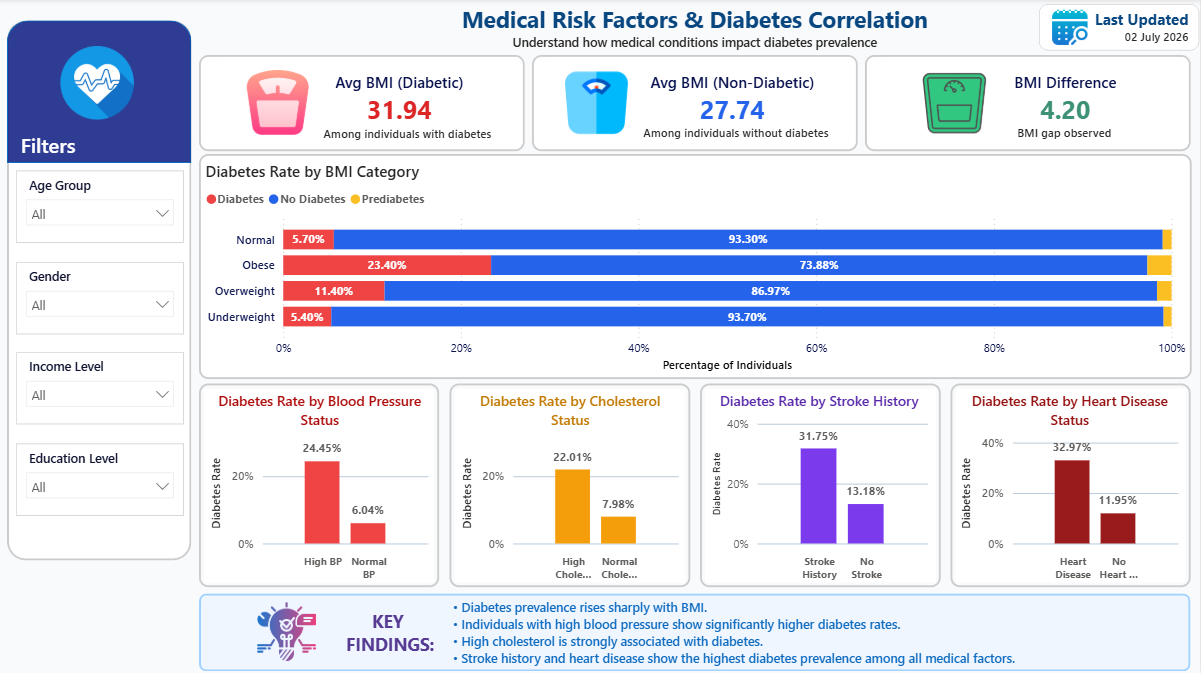

Layout of this report page (visuals, bound fields, positions):
{"tool":"powerbi","page":{"name":"Medical Risk Factors","canvas":[1280,720],"ordinal":1},"visuals":[{"type":"shape","box":[15.9,23.9,195.6,572.6],"z":0},{"type":"cardVisual","fields":{"Data":["diabetes_featuredFinal.Avg BMI Diabetic"]},"box":[219.5,60.4,345,101.8],"z":1000},{"type":"cardVisual","fields":{"Data":["diabetes_featuredFinal.Avg BMI Non-Diabetic"]},"box":[572.6,60.4,345,101.8],"z":2000},{"type":"image","box":[265.6,76.3,74.8,68.4],"z":3000},{"type":"shape","box":[15.9,23.9,195.6,151.1],"z":4000},{"type":"slicer","fields":{"Values":["diabetes_featuredFinal.Age_Group"]},"box":[25.4,182.9,178.1,76.3],"z":5000},{"type":"slicer","fields":{"Values":["diabetes_featuredFinal.Gender"]},"box":[25.4,279.4,178.1,76.3],"z":6000},{"type":"slicer","fields":{"Values":["diabetes_featuredFinal.Income_Level"]},"box":[25.4,375.9,178.1,76.3],"z":7000},{"type":"slicer","fields":{"Values":["diabetes_featuredFinal.Education_Level"]},"box":[25.4,472.4,178.1,76.3],"z":8000},{"type":"image","box":[52.5,50.9,117.7,77.9],"z":9000},{"type":"textbox","box":[25.4,135.2,82.7,42.9],"z":10000},{"type":"textbox","box":[345.2,0,800.1,62],"z":11000},{"type":"textbox","box":[321.3,128.8,238.6,35],"z":12000},{"type":"cardVisual","fields":{"Data":["diabetes_featuredFinal.Last Update"]},"box":[1109.8,6.4,170.2,49.3],"z":13000},{"type":"image","box":[1123,6.4,39.8,49.3],"z":14000},{"type":"image","box":[607.6,76.3,66.8,70],"z":15000},{"type":"textbox","box":[669.6,127.2,238.6,35],"z":16000},{"type":"hundredPercentStackedBarChart","title":"Diabetes Rate by BMI Category","fields":{"Category":["diabetes_featuredFinal.BMI_category"],"Series":["diabetes_featuredFinal.Diabetes Status"],"Y":["CountNonNull(diabetes_featuredFinal.Diabetes Status)"]},"box":[219.5,166.1,1053,238.6],"z":17000},{"type":"shape","box":[219.5,409.1,254.5,216.3],"z":18000},{"type":"shape","box":[485.1,409.1,255,216],"z":19000},{"type":"shape","box":[750.8,409.1,255,216],"z":20000},{"type":"shape","box":[1016.4,409.1,254.5,216],"z":21000},{"type":"clusteredColumnChart","title":"Diabetes Rate by Blood Pressure Status","fields":{"Category":["diabetes_featuredFinal.BP Status"],"Y":["diabetes_featuredFinal.Diabetes Rate"]},"box":[227.5,415.4,240.2,210],"z":22000},{"type":"clusteredColumnChart","title":"Diabetes Rate by Cholesterol Status","fields":{"Category":["diabetes_featuredFinal.Cholesterol Status"],"Y":["diabetes_featuredFinal.Diabetes Rate"]},"box":[493.1,415.4,240.2,210],"z":23000},{"type":"clusteredColumnChart","title":"Diabetes Rate by Stroke History","fields":{"Category":["diabetes_featuredFinal.Stroke Status"],"Y":["diabetes_featuredFinal.Diabetes Rate"]},"box":[757.1,415.4,240.2,210],"z":24000},{"type":"clusteredColumnChart","title":"Diabetes Rate by Heart Disease Status","fields":{"Category":["diabetes_featuredFinal.Heart Status"],"Y":["diabetes_featuredFinal.Diabetes Rate"]},"box":[1022.8,415.4,240.2,210],"z":25000},{"type":"shape","box":[219.5,631.5,1051.4,82.7],"z":26000},{"type":"textbox","box":[483.5,631.5,726.9,82.7],"z":27000},{"type":"image","box":[222.7,636.2,179.7,71.6],"z":28000},{"type":"textbox","box":[364.2,642.6,116.1,65.2],"z":29000},{"type":"cardVisual","fields":{"Data":["diabetes_featuredFinal.BMI Difference"]},"box":[925.7,60.4,345.2,101.8],"z":30000},{"type":"image","box":[986.2,73.2,68.4,76.3],"z":31000},{"type":"textbox","box":[1018,127.2,238.6,35],"z":32000}]}

Visuals, with their boxes in screenshot pixels (x1, y1, x2, y2), scaled from the page's 1280x720 canvas onto the 1201x673 screenshot:
shape: <box>15,22,198,558</box>
cardVisual - diabetes_featuredFinal.Avg BMI Diabetic: <box>206,56,530,152</box>
cardVisual - diabetes_featuredFinal.Avg BMI Non-Diabetic: <box>537,56,861,152</box>
image: <box>249,71,319,135</box>
shape: <box>15,22,198,164</box>
slicer - diabetes_featuredFinal.Age_Group: <box>24,171,191,242</box>
slicer - diabetes_featuredFinal.Gender: <box>24,261,191,332</box>
slicer - diabetes_featuredFinal.Income_Level: <box>24,351,191,423</box>
slicer - diabetes_featuredFinal.Education_Level: <box>24,442,191,513</box>
image: <box>49,48,160,120</box>
textbox: <box>24,126,101,166</box>
textbox: <box>324,0,1075,58</box>
textbox: <box>301,120,525,153</box>
cardVisual - diabetes_featuredFinal.Last Update: <box>1041,6,1200,52</box>
image: <box>1054,6,1091,52</box>
image: <box>570,71,633,137</box>
textbox: <box>628,119,852,152</box>
"Diabetes Rate by BMI Category" hundredPercentStackedBarChart: <box>206,155,1194,378</box>
shape: <box>206,382,445,585</box>
shape: <box>455,382,694,584</box>
shape: <box>704,382,944,584</box>
shape: <box>954,382,1192,584</box>
"Diabetes Rate by Blood Pressure Status" clusteredColumnChart: <box>213,388,439,585</box>
"Diabetes Rate by Cholesterol Status" clusteredColumnChart: <box>463,388,688,585</box>
"Diabetes Rate by Stroke History" clusteredColumnChart: <box>710,388,936,585</box>
"Diabetes Rate by Heart Disease Status" clusteredColumnChart: <box>960,388,1185,585</box>
shape: <box>206,590,1192,668</box>
textbox: <box>454,590,1136,668</box>
image: <box>209,595,378,662</box>
textbox: <box>342,601,451,662</box>
cardVisual - diabetes_featuredFinal.BMI Difference: <box>869,56,1192,152</box>
image: <box>925,68,990,140</box>
textbox: <box>955,119,1179,152</box>
